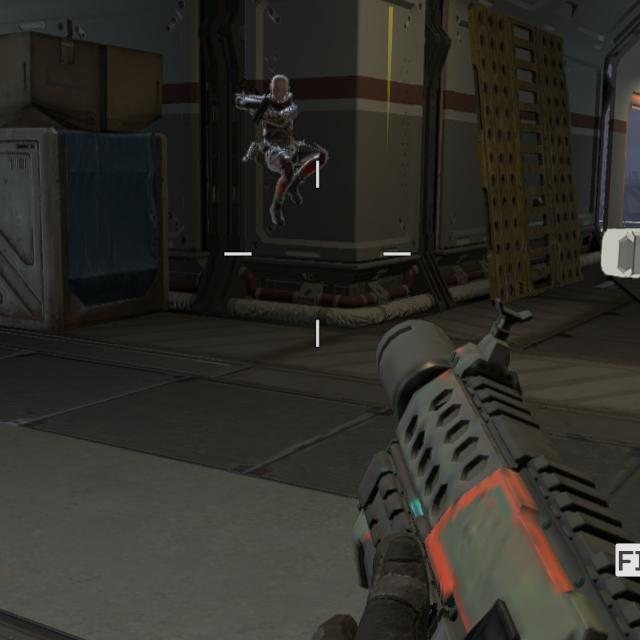avatar: (236, 74, 330, 230)
